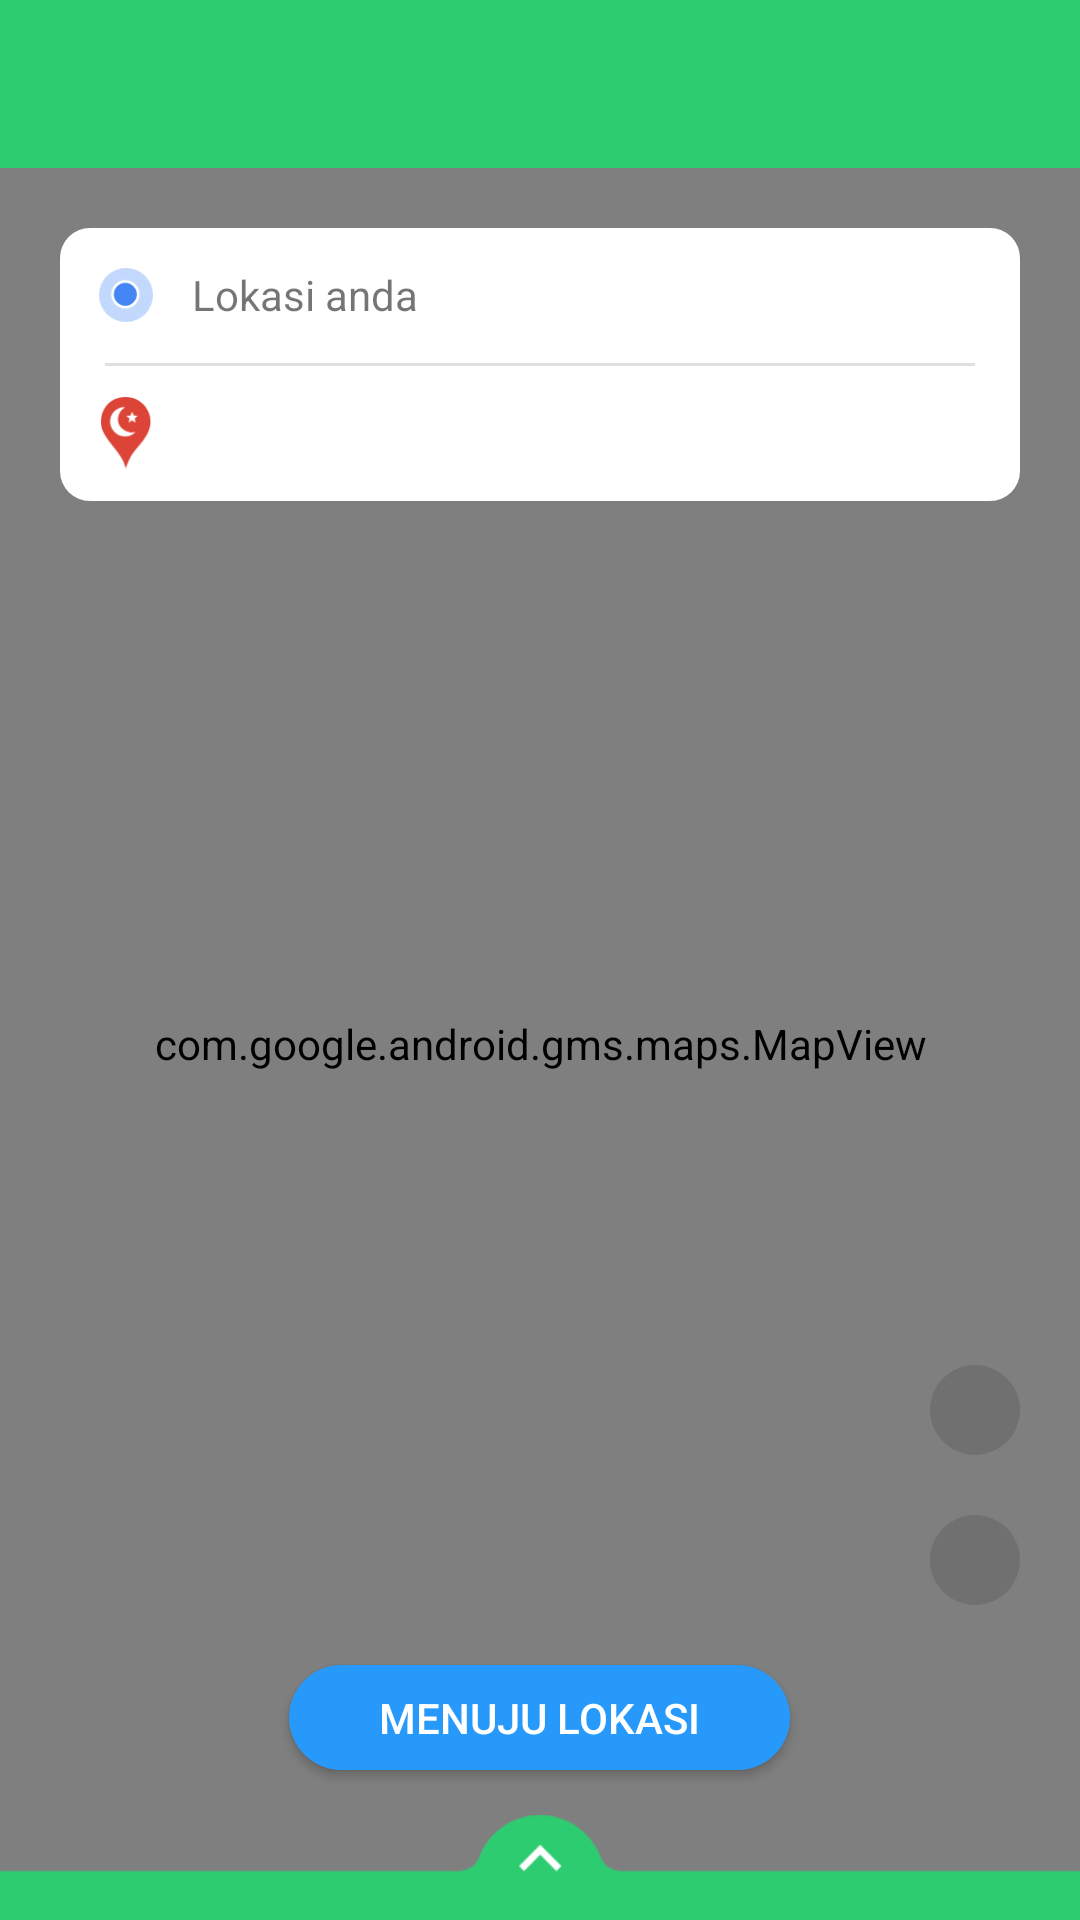

Locate icon controls on the screen. Image size 1080×1920, boxes as (x1, y1, x2, y2).
marker masjid: (101, 397, 151, 468)
marker origin elipse: (99, 268, 153, 322)
